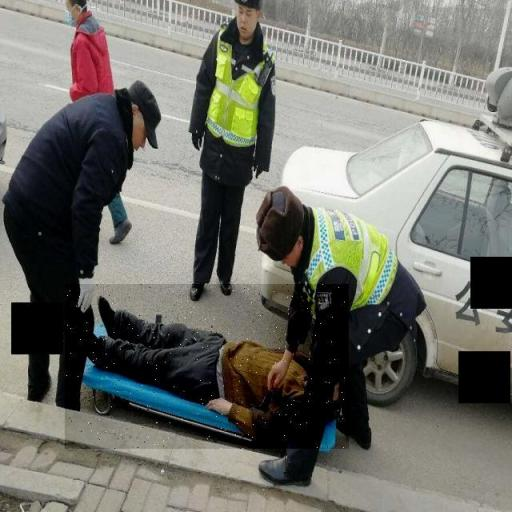Fall: (65, 284, 349, 449)
